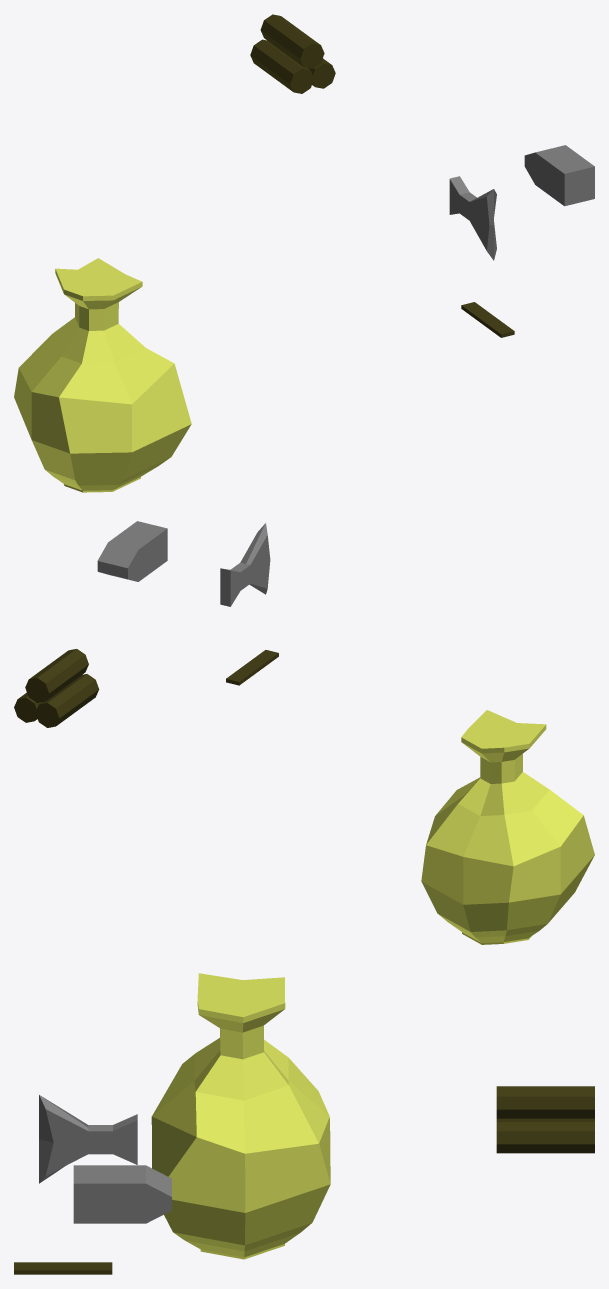
The model's file is Tools.fbx.
3 renders of one model, top to bottom at view 1: azimuth 30°, elevation 25°; view 2: azimuth 150°, elevation 25°; view 3: azimuth 270°, elevation 25°, orthographic. The views are drawn at different scales.
Parts seen in each view (by area): view 1: GoldBag, Woods, Hammer, Axe, line; view 2: GoldBag, Woods, Hammer, Axe, line; view 3: GoldBag, Woods, Hammer, Axe, line.
Part boxes in pixels (left/top/right/bottom): GoldBag: left=14, top=258, right=191, bottom=492; Woods: left=250, top=14, right=335, bottom=93; Hammer: left=524, top=145, right=594, bottom=206; Axe: left=449, top=176, right=496, bottom=260; line: left=461, top=302, right=514, bottom=337; GoldBag: left=421, top=710, right=594, bottom=944; Woods: left=14, top=649, right=99, bottom=727; Hammer: left=97, top=521, right=167, bottom=581; Axe: left=220, top=523, right=270, bottom=606; line: left=226, top=650, right=278, bottom=685; GoldBag: left=151, top=973, right=330, bottom=1259; Woods: left=496, top=1086, right=594, bottom=1153; Hammer: left=73, top=1165, right=171, bottom=1223; Axe: left=39, top=1095, right=137, bottom=1183; line: left=14, top=1262, right=112, bottom=1274.
Size of the model in its own units: 1430 by 780 by 1181.
